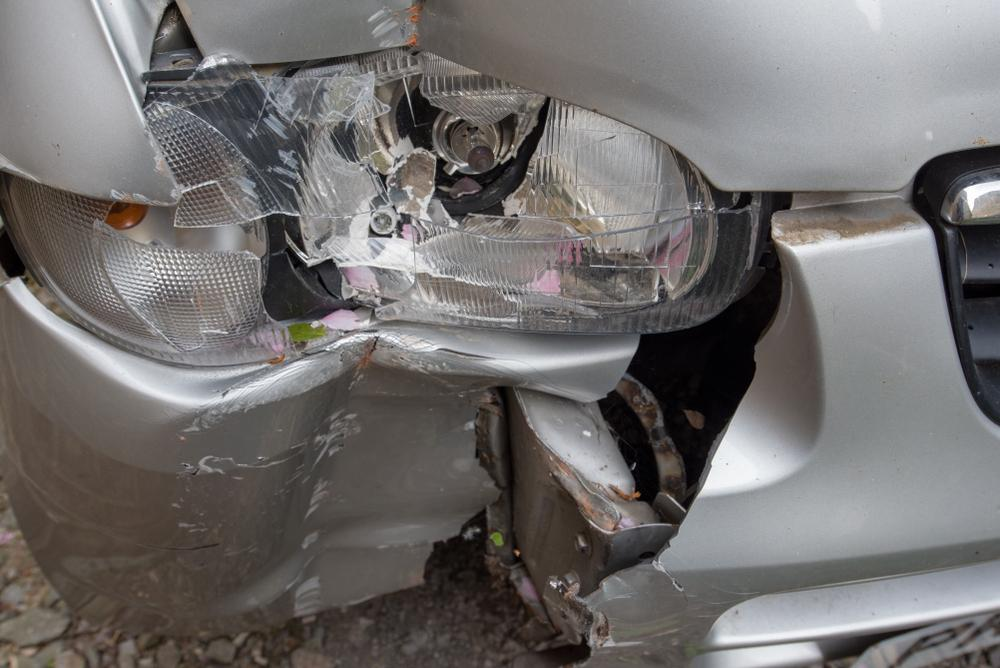crack: (420, 338, 756, 667)
dent: (170, 335, 497, 633), (361, 0, 461, 57)
lamp broken: (0, 44, 758, 364)
